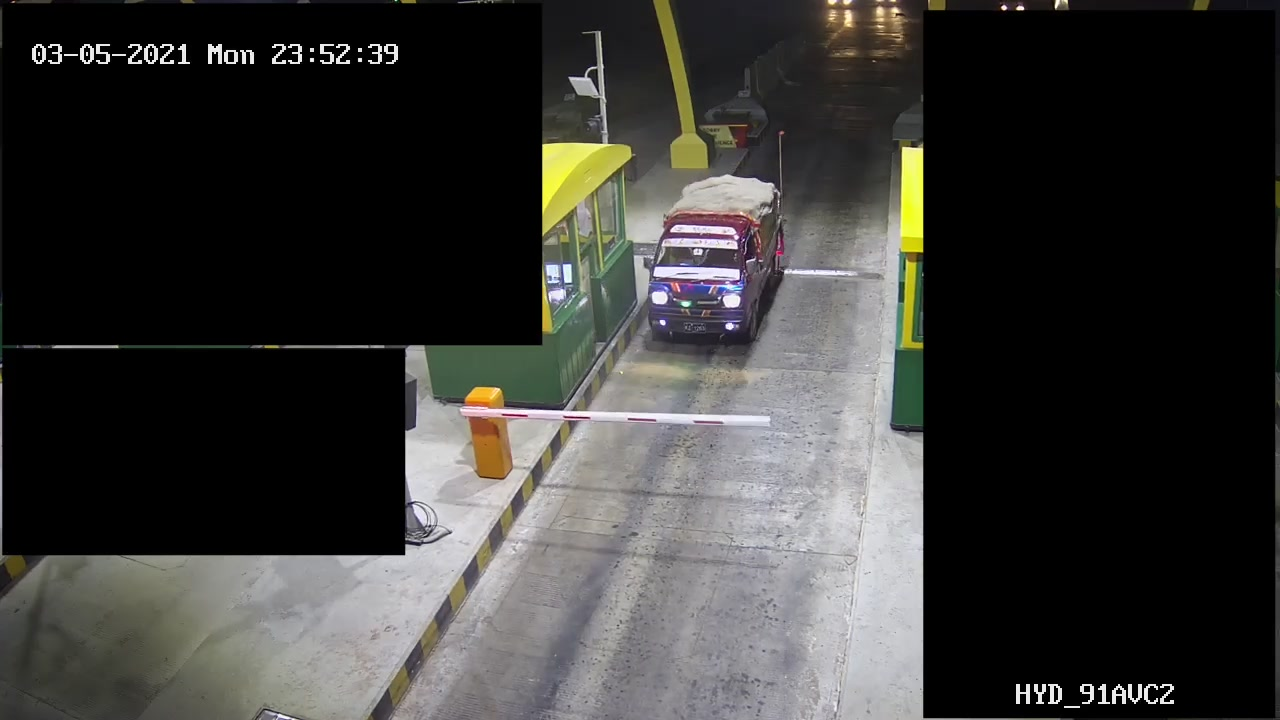F1: (635, 165, 789, 366)
